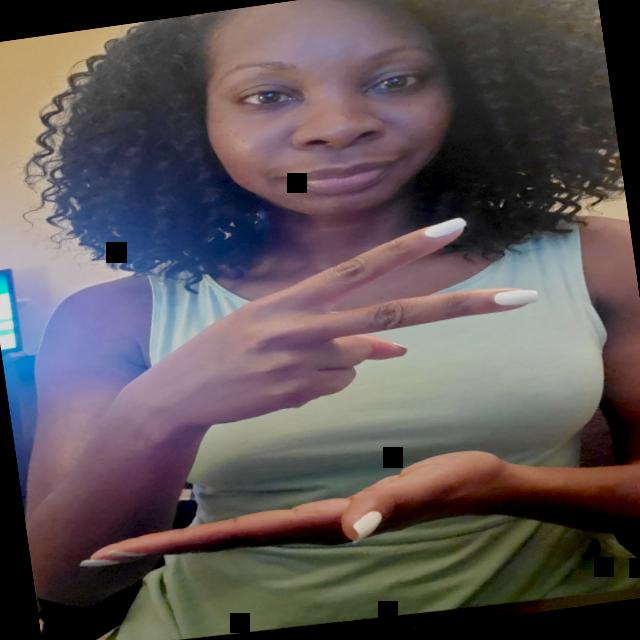Scissors: (112, 204, 558, 446)
